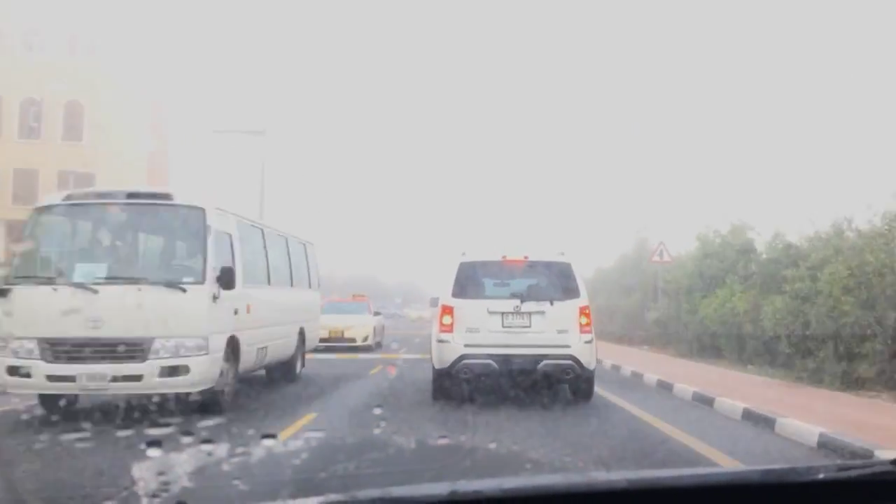bus: (1, 184, 324, 419)
car: (428, 249, 598, 406), (304, 294, 388, 351)
